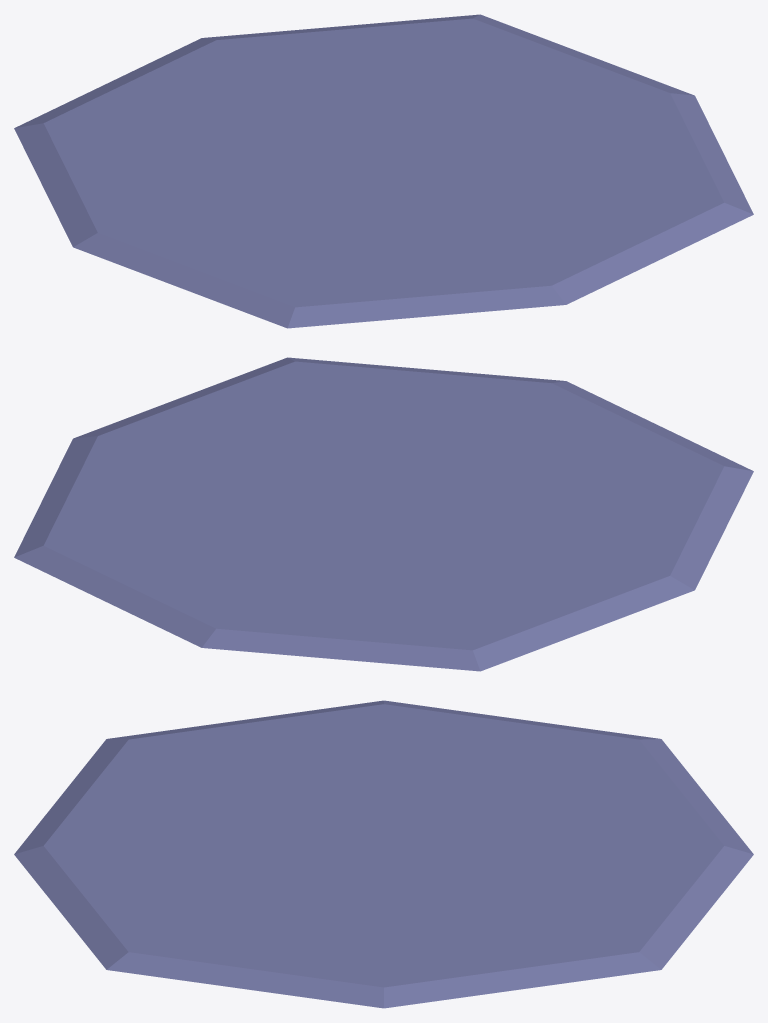
File: Carpet_2_231109.glb
3 views of the same model, one above another, from view 1: azimuth 30°, elevation 25°; view 2: azimuth 150°, elevation 25°; view 3: azimuth 270°, elevation 25° (orthographic).
Visible parts, largest first — view 1: Carpet_2; view 2: Carpet_2; view 3: Carpet_2.
Part boxes in pixels (bbox=[...]): Carpet_2: bbox=[14, 14, 753, 328]; Carpet_2: bbox=[14, 357, 753, 671]; Carpet_2: bbox=[14, 700, 753, 1008].
Size of the model in its own units: 3.42 by 0.0448 by 3.47.
Materials: 1 (1 with a texture image).
